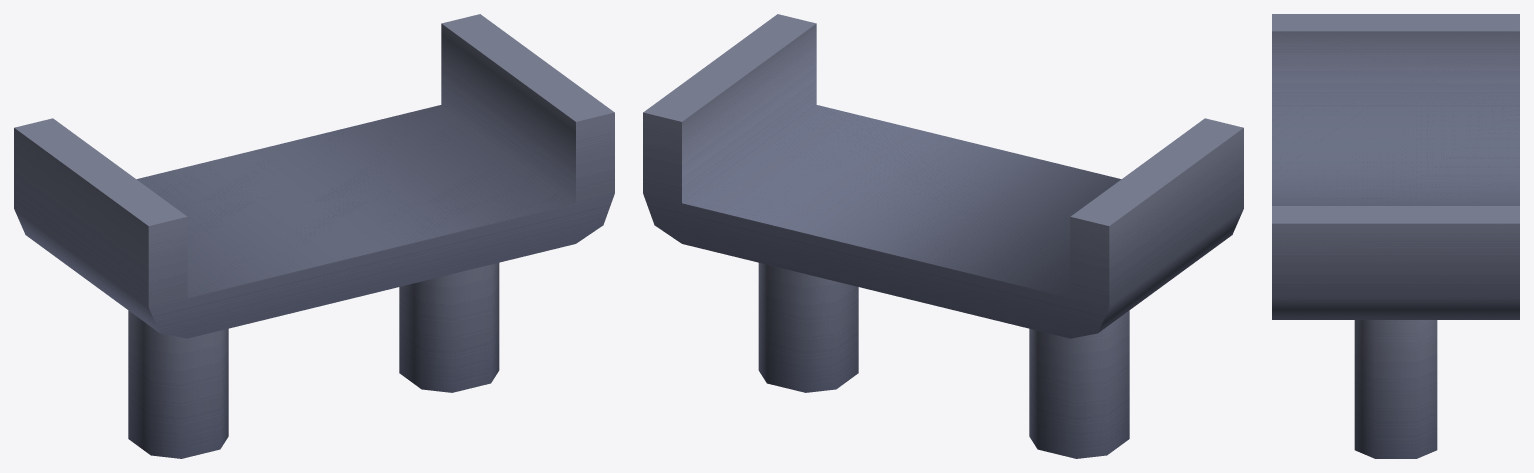
File: support_two_top.glb
3 views of the same model, side by side, from view 1: azimuth 30°, elevation 25°; view 2: azimuth 150°, elevation 25°; view 3: azimuth 270°, elevation 25° (orthographic). The views are drawn at different scales.
Parts seen in each view (by area): view 1: support-two-top; view 2: support-two-top; view 3: support-two-top.
Boxes of the visible parts, bbox=[...] form: support-two-top: bbox=[14, 14, 614, 458]; support-two-top: bbox=[643, 14, 1243, 458]; support-two-top: bbox=[1272, 14, 1519, 458].
Bounding box in the file's own units: 1.2 × 0.7 × 0.6.
Materials: 1 (1 with a texture image).
